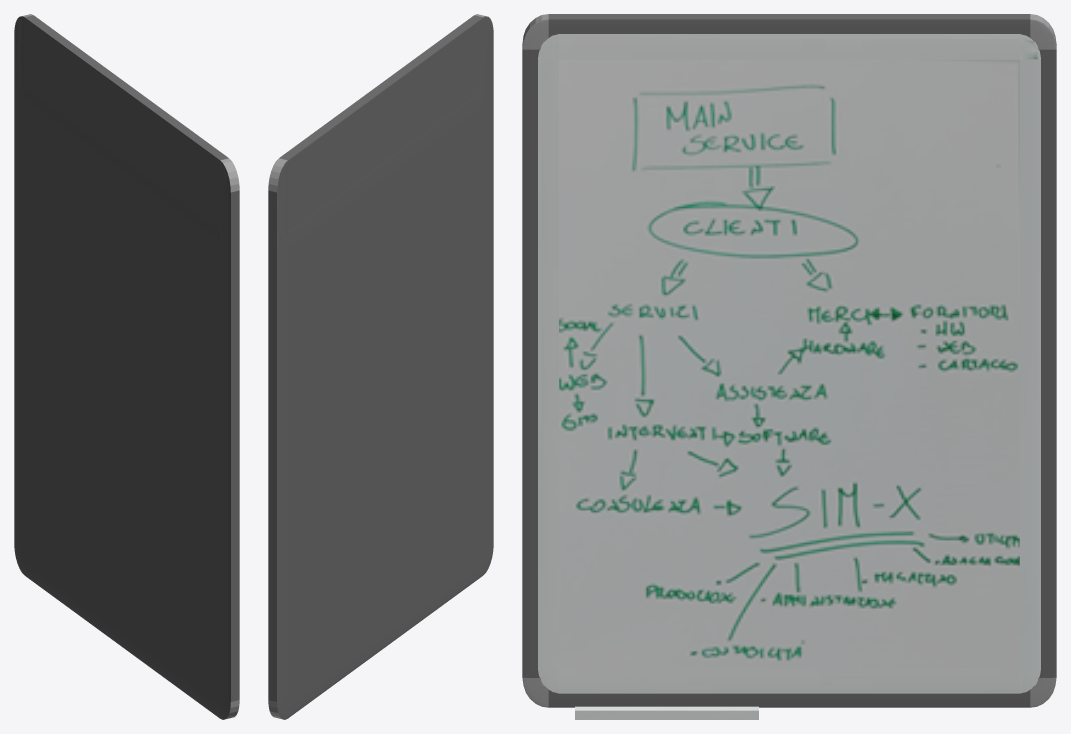
File: NewWebBiancoOBJ.gltf
The picture shows the model from 3 angles, left to right: view 1: azimuth 30°, elevation 25°; view 2: azimuth 150°, elevation 25°; view 3: azimuth 270°, elevation 25°; orthographic projection. The views are drawn at different scales.
Parts seen in each view (by area): view 1: Lavagna Grande; view 2: Lavagna Grande; view 3: Lavagna Grande.
Boxes of the visible parts, x1,y1,x2,y2 form: Lavagna Grande: (14, 14, 239, 719); Lavagna Grande: (268, 14, 493, 719); Lavagna Grande: (522, 14, 1056, 719).
Bounding box in the file's own units: 0.00793 × 0.14 × 0.0985.
3 materials, 1 textured.
